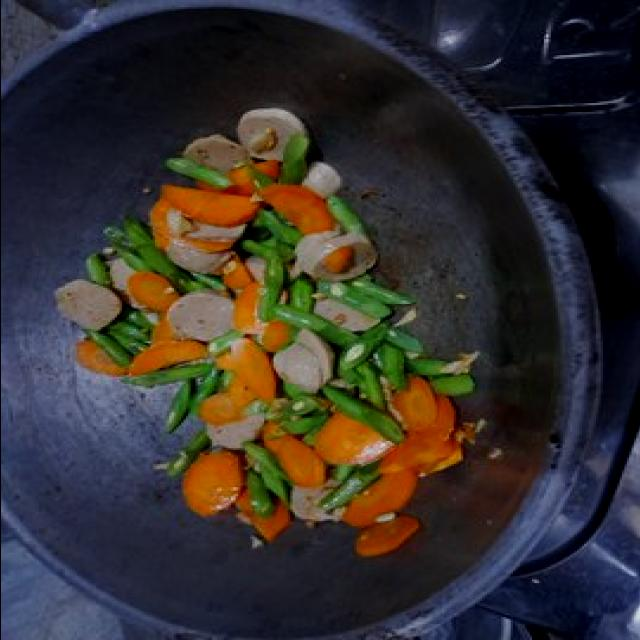capcay: (55, 110, 476, 558)
